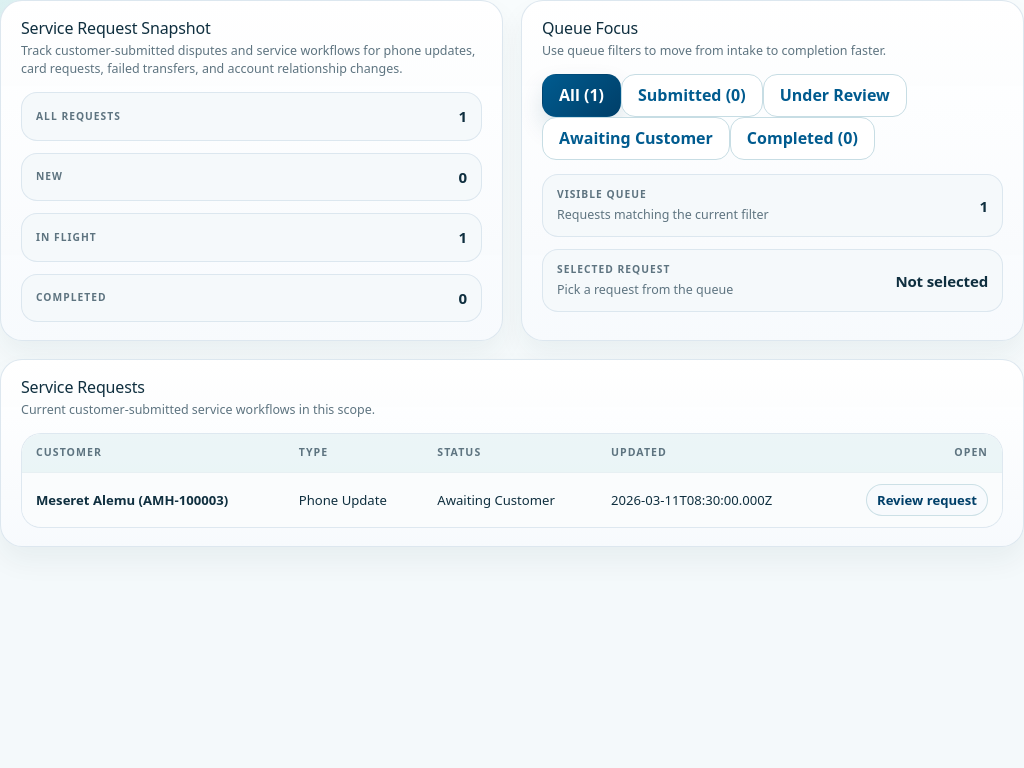
Test: ServiceRequestsPage › shows structured metadata for phone update workflows
expect the text "Meseret Alemu (AMH-100003)" is shown: met, box left=22, top=473, right=285, bottom=527
Step 1. Click the button "Review request" → x=927, y=500, box left=866, top=484, right=988, bottom=516
(page scrolled)
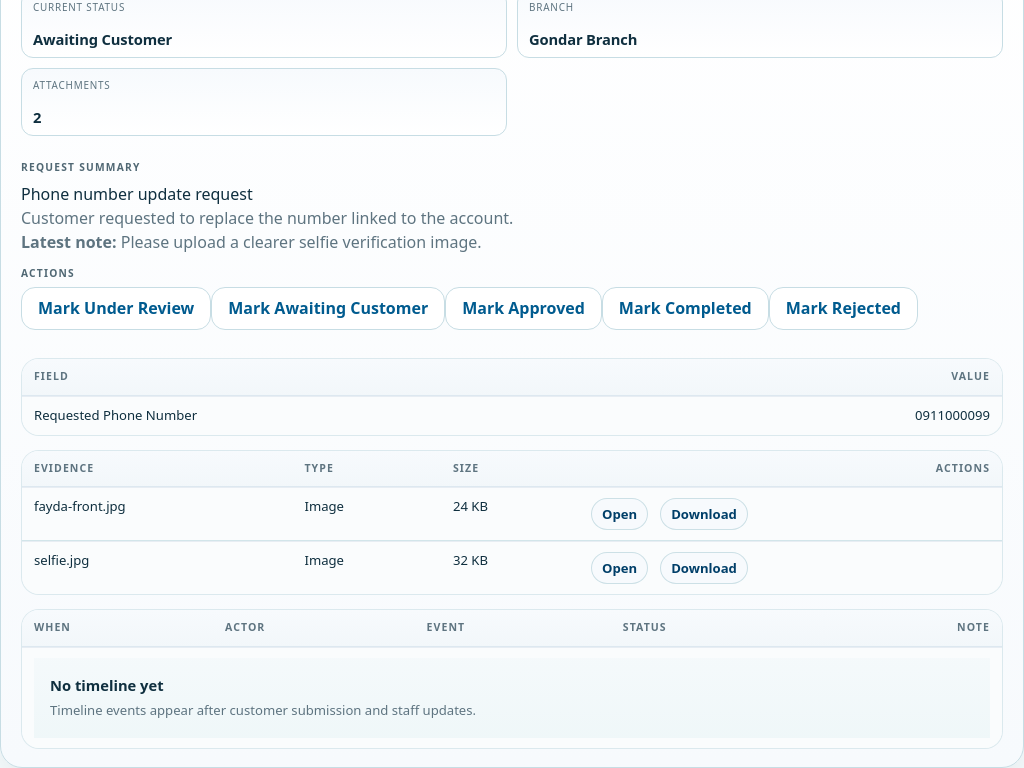
expect the heading "Phone number update request" is shown: met, box left=21, top=183, right=253, bottom=205
expect the text "Requested Phone Number" is shown: met, box left=22, top=396, right=663, bottom=435
expect the text "0911000099" is shown: met, box left=663, top=396, right=1002, bottom=435
Step 2. Click the button "Open" in the row of "fayda-front.jpg" → x=620, y=514, box left=591, top=498, right=648, bottom=530
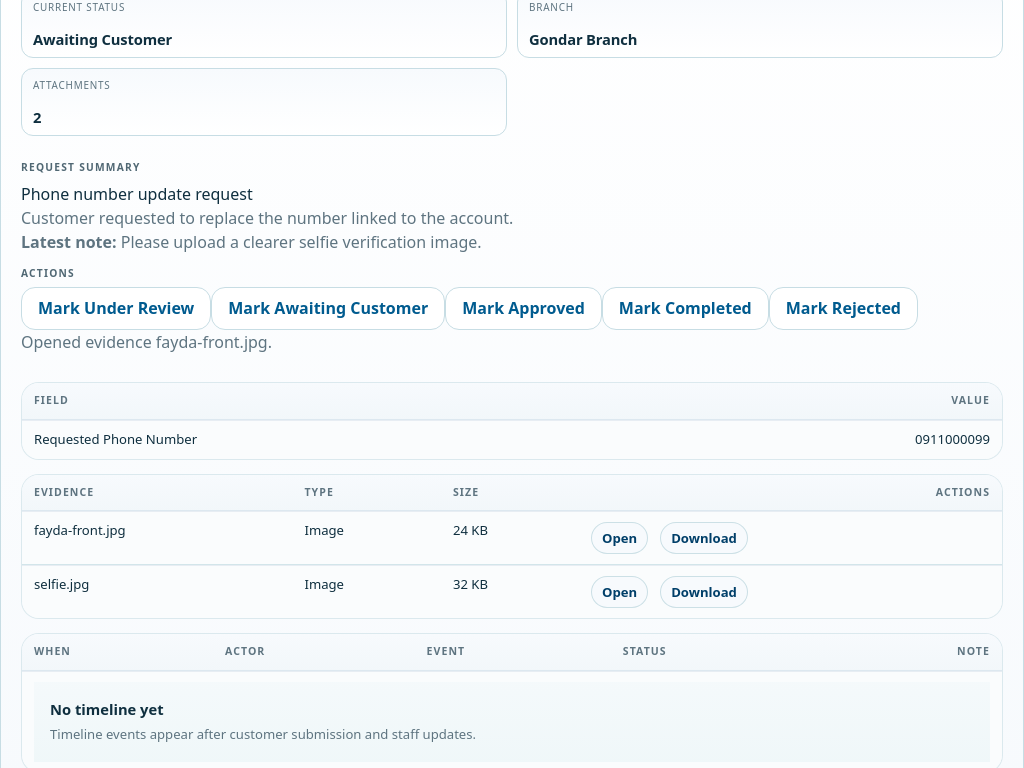
expect the text "Opened evidence fayda-front.jpg." is shown: met, box left=21, top=331, right=272, bottom=353
